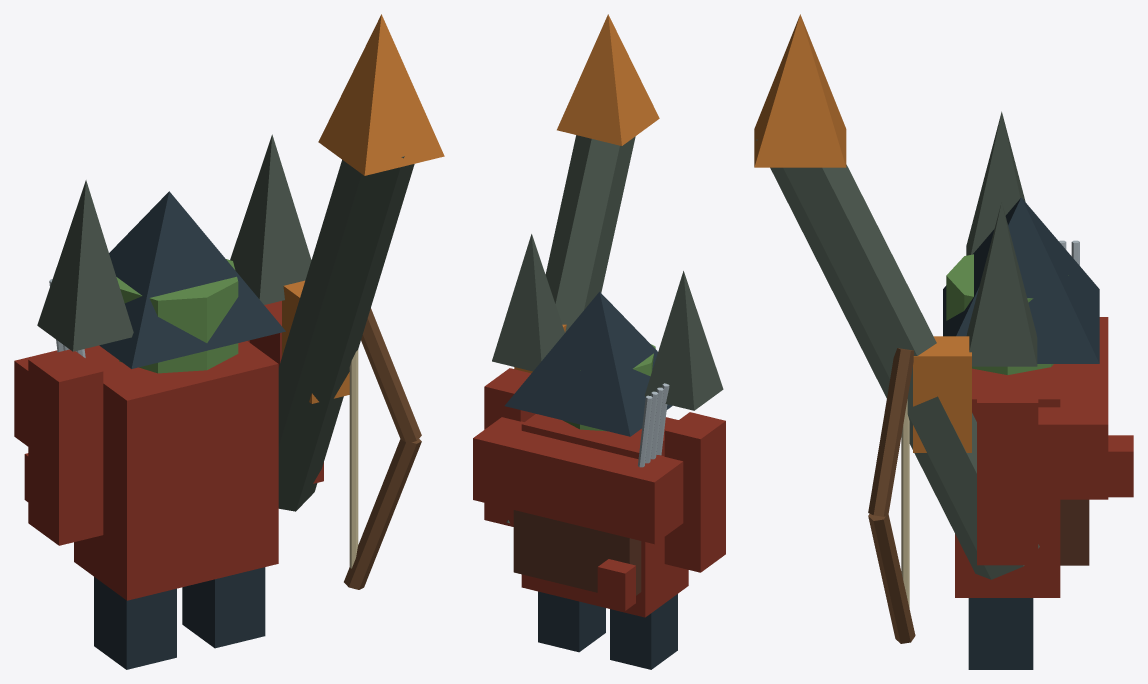
File: anti-air-infantry.obj
The picture shows the model from 3 angles, left to right: view 1: azimuth 30°, elevation 25°; view 2: azimuth 150°, elevation 25°; view 3: azimuth 270°, elevation 25°; orthographic projection. The views are drawn at different scales.
Visible parts, largest first — view 1: ranged; view 2: ranged; view 3: ranged.
Part boxes in pixels (x1,y1,x2,y2): ranged: (14,14,444,669); ranged: (473,14,725,669); ranged: (754,14,1133,669).
Size of the model in its own units: 1.2 by 2.5 by 1.28.
